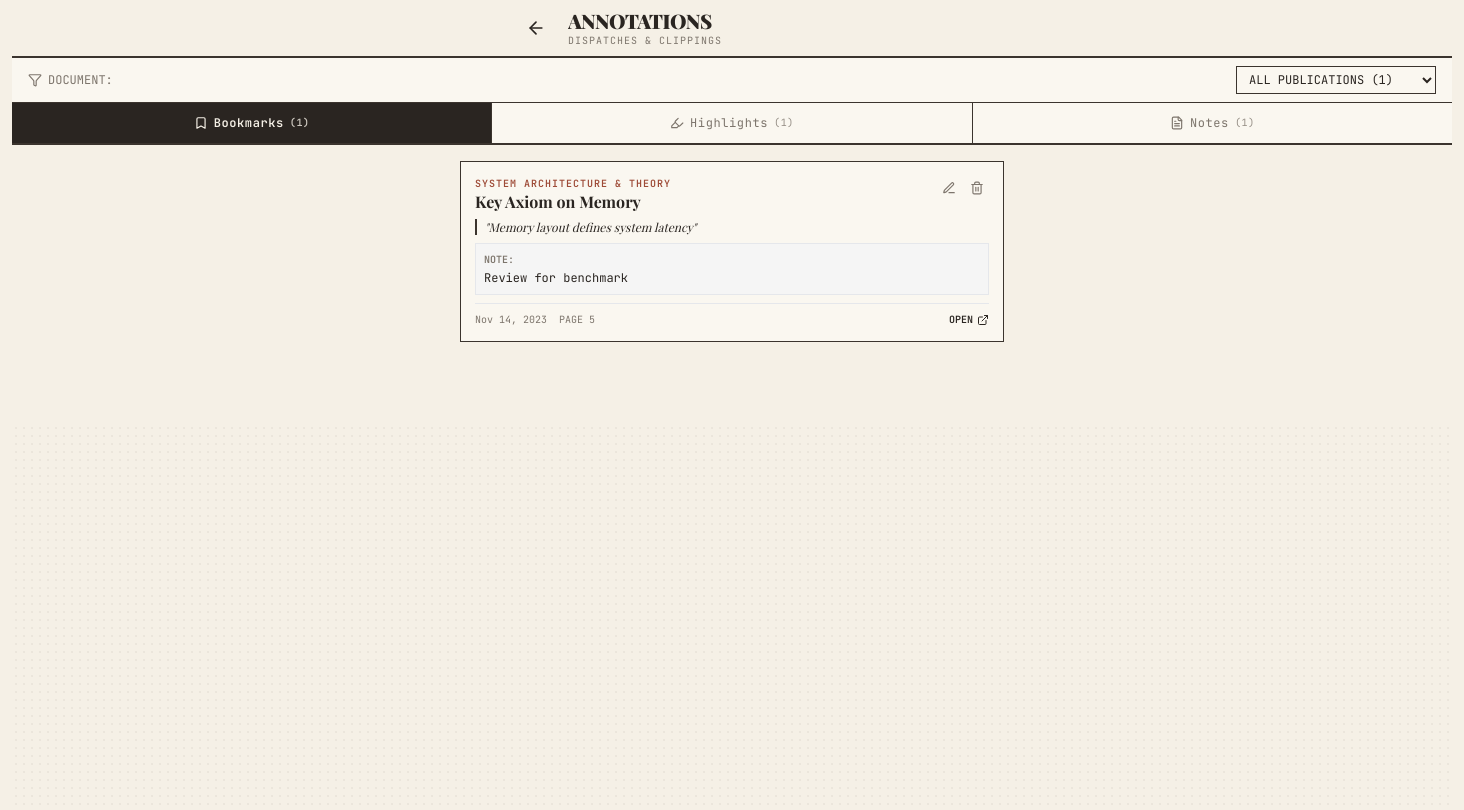
it: AnnotationsScreen component › switches to notes tab and displays notes
The image size is (1464, 810).
Check: the heading "Key Axiom on Memory" is shown, box [475,191,641,212]
Click Notes tab
Click the button "Notes (1)" at [1212, 123], box [973,103,1452,143]
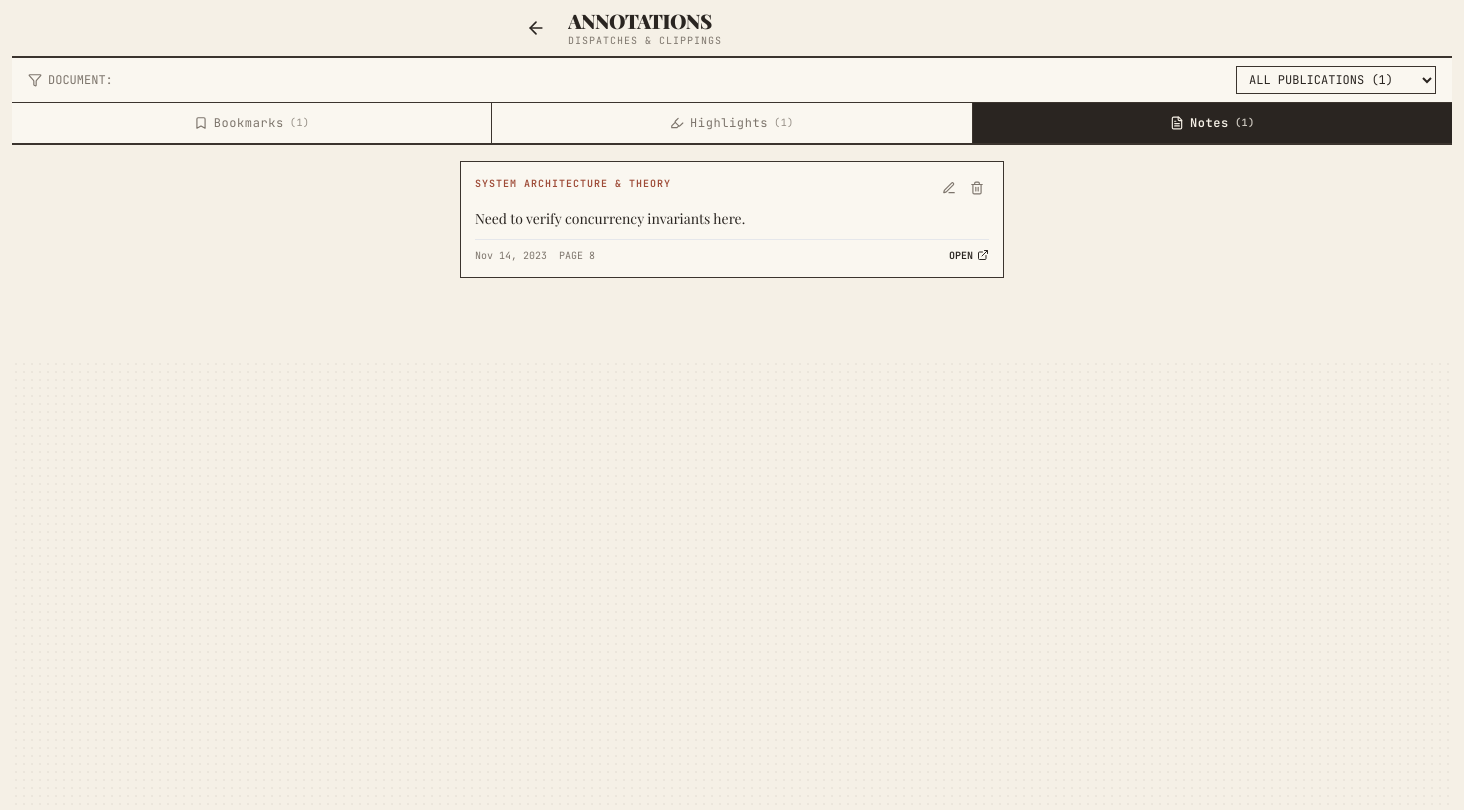
Check: the text "Need to verify concurrency invariants here." is shown, box [475,209,745,228]
